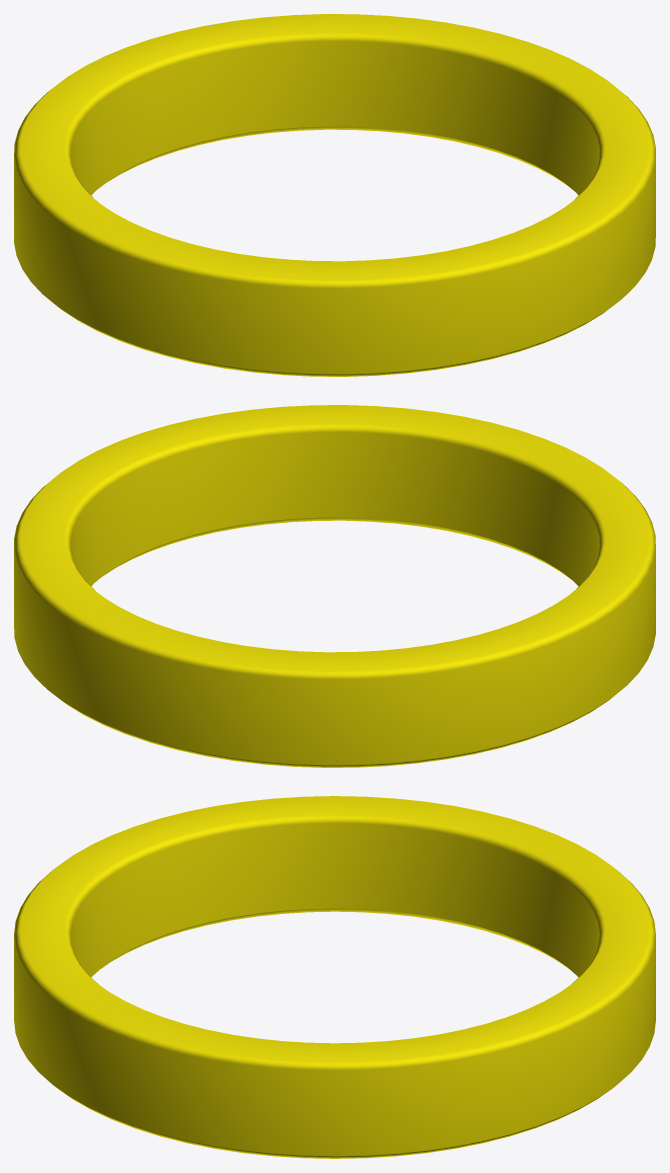
3 views of the same model, one above another, from view 1: azimuth 30°, elevation 25°; view 2: azimuth 150°, elevation 25°; view 3: azimuth 270°, elevation 25° (orthographic).
Parts seen in each view (by area): view 1: seal_body; view 2: seal_body; view 3: seal_body.
Boxes of the visible parts, <box> form: seal_body: <box>14,14,655,376</box>; seal_body: <box>14,405,655,767</box>; seal_body: <box>14,796,655,1158</box>.
Size of the model in its own units: 0.045 by 0.0075 by 0.045.
